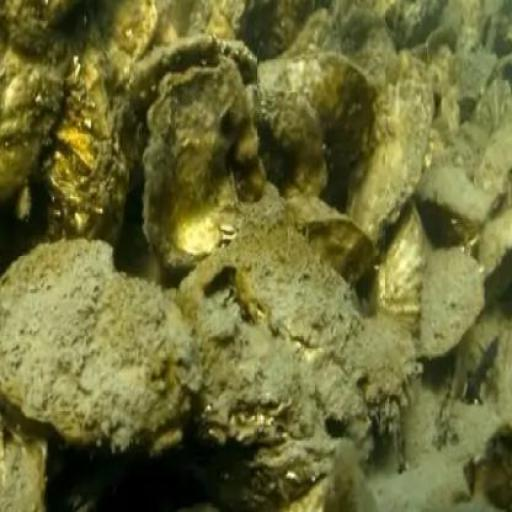Oyster-Closed: (146, 72, 246, 268), (250, 56, 382, 204), (350, 97, 434, 249), (376, 204, 426, 333), (305, 217, 368, 283)
